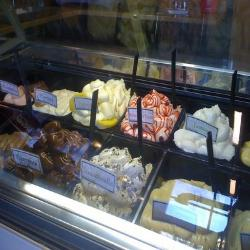icecream: (82, 142, 149, 214), (147, 179, 219, 238), (175, 104, 234, 162), (123, 90, 176, 145), (37, 126, 86, 183), (75, 83, 129, 129)
